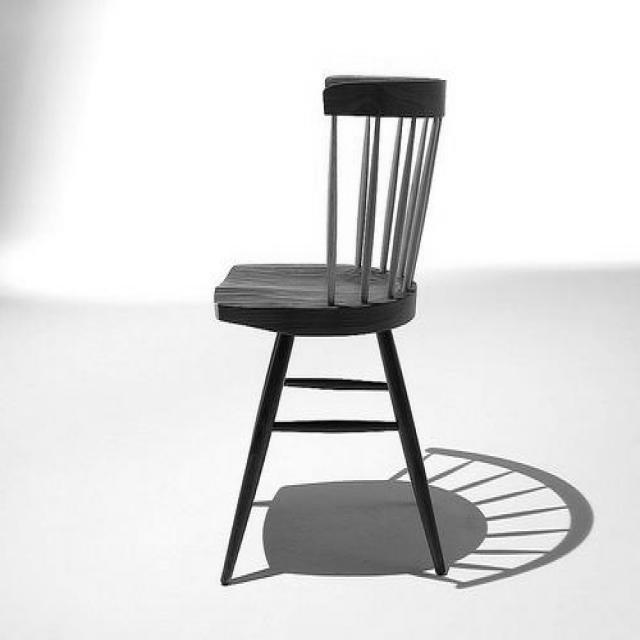chair: (212, 72, 452, 582)
